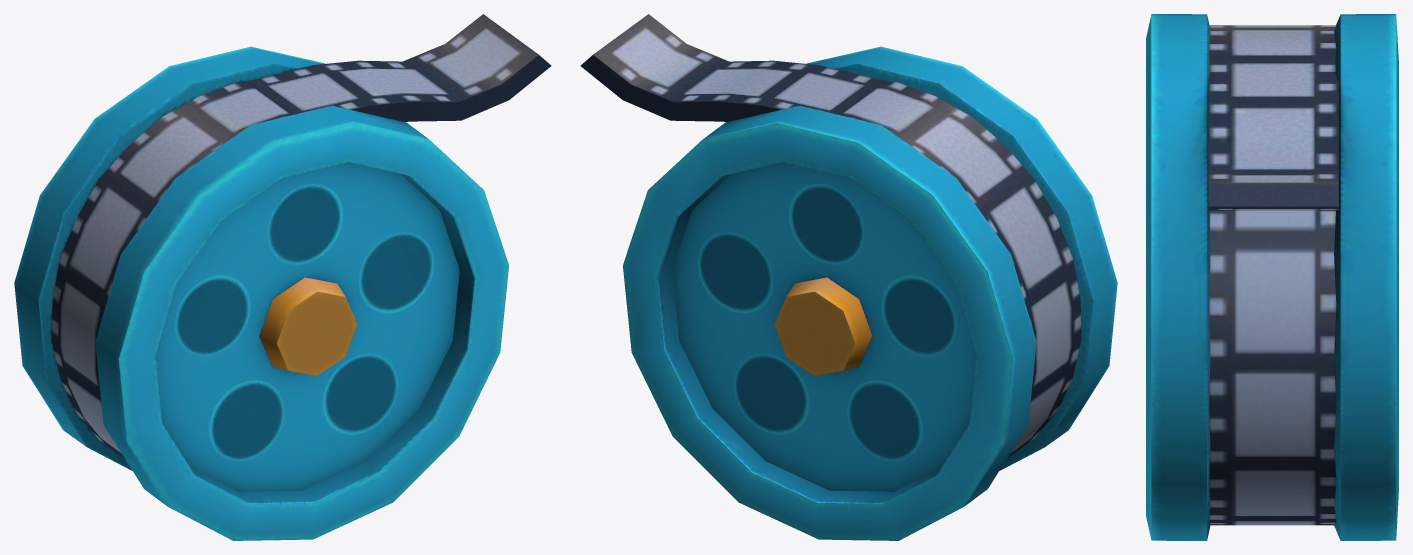
The model's file is 0-movieroll_blue.fbx.
The picture shows the model from 3 angles, left to right: view 1: azimuth 30°, elevation 25°; view 2: azimuth 150°, elevation 25°; view 3: azimuth 270°, elevation 25°; orthographic projection. The views are drawn at different scales.
Parts seen in each view (by area): view 1: 0-movieroll_blue; view 2: 0-movieroll_blue; view 3: 0-movieroll_blue.
Part boxes in pixels (<box>): 0-movieroll_blue: <box>14,14,551,540</box>; 0-movieroll_blue: <box>580,14,1117,540</box>; 0-movieroll_blue: <box>1146,14,1398,540</box>.
Bounding box in the file's own units: 94.48 × 80.25 × 38.57.
